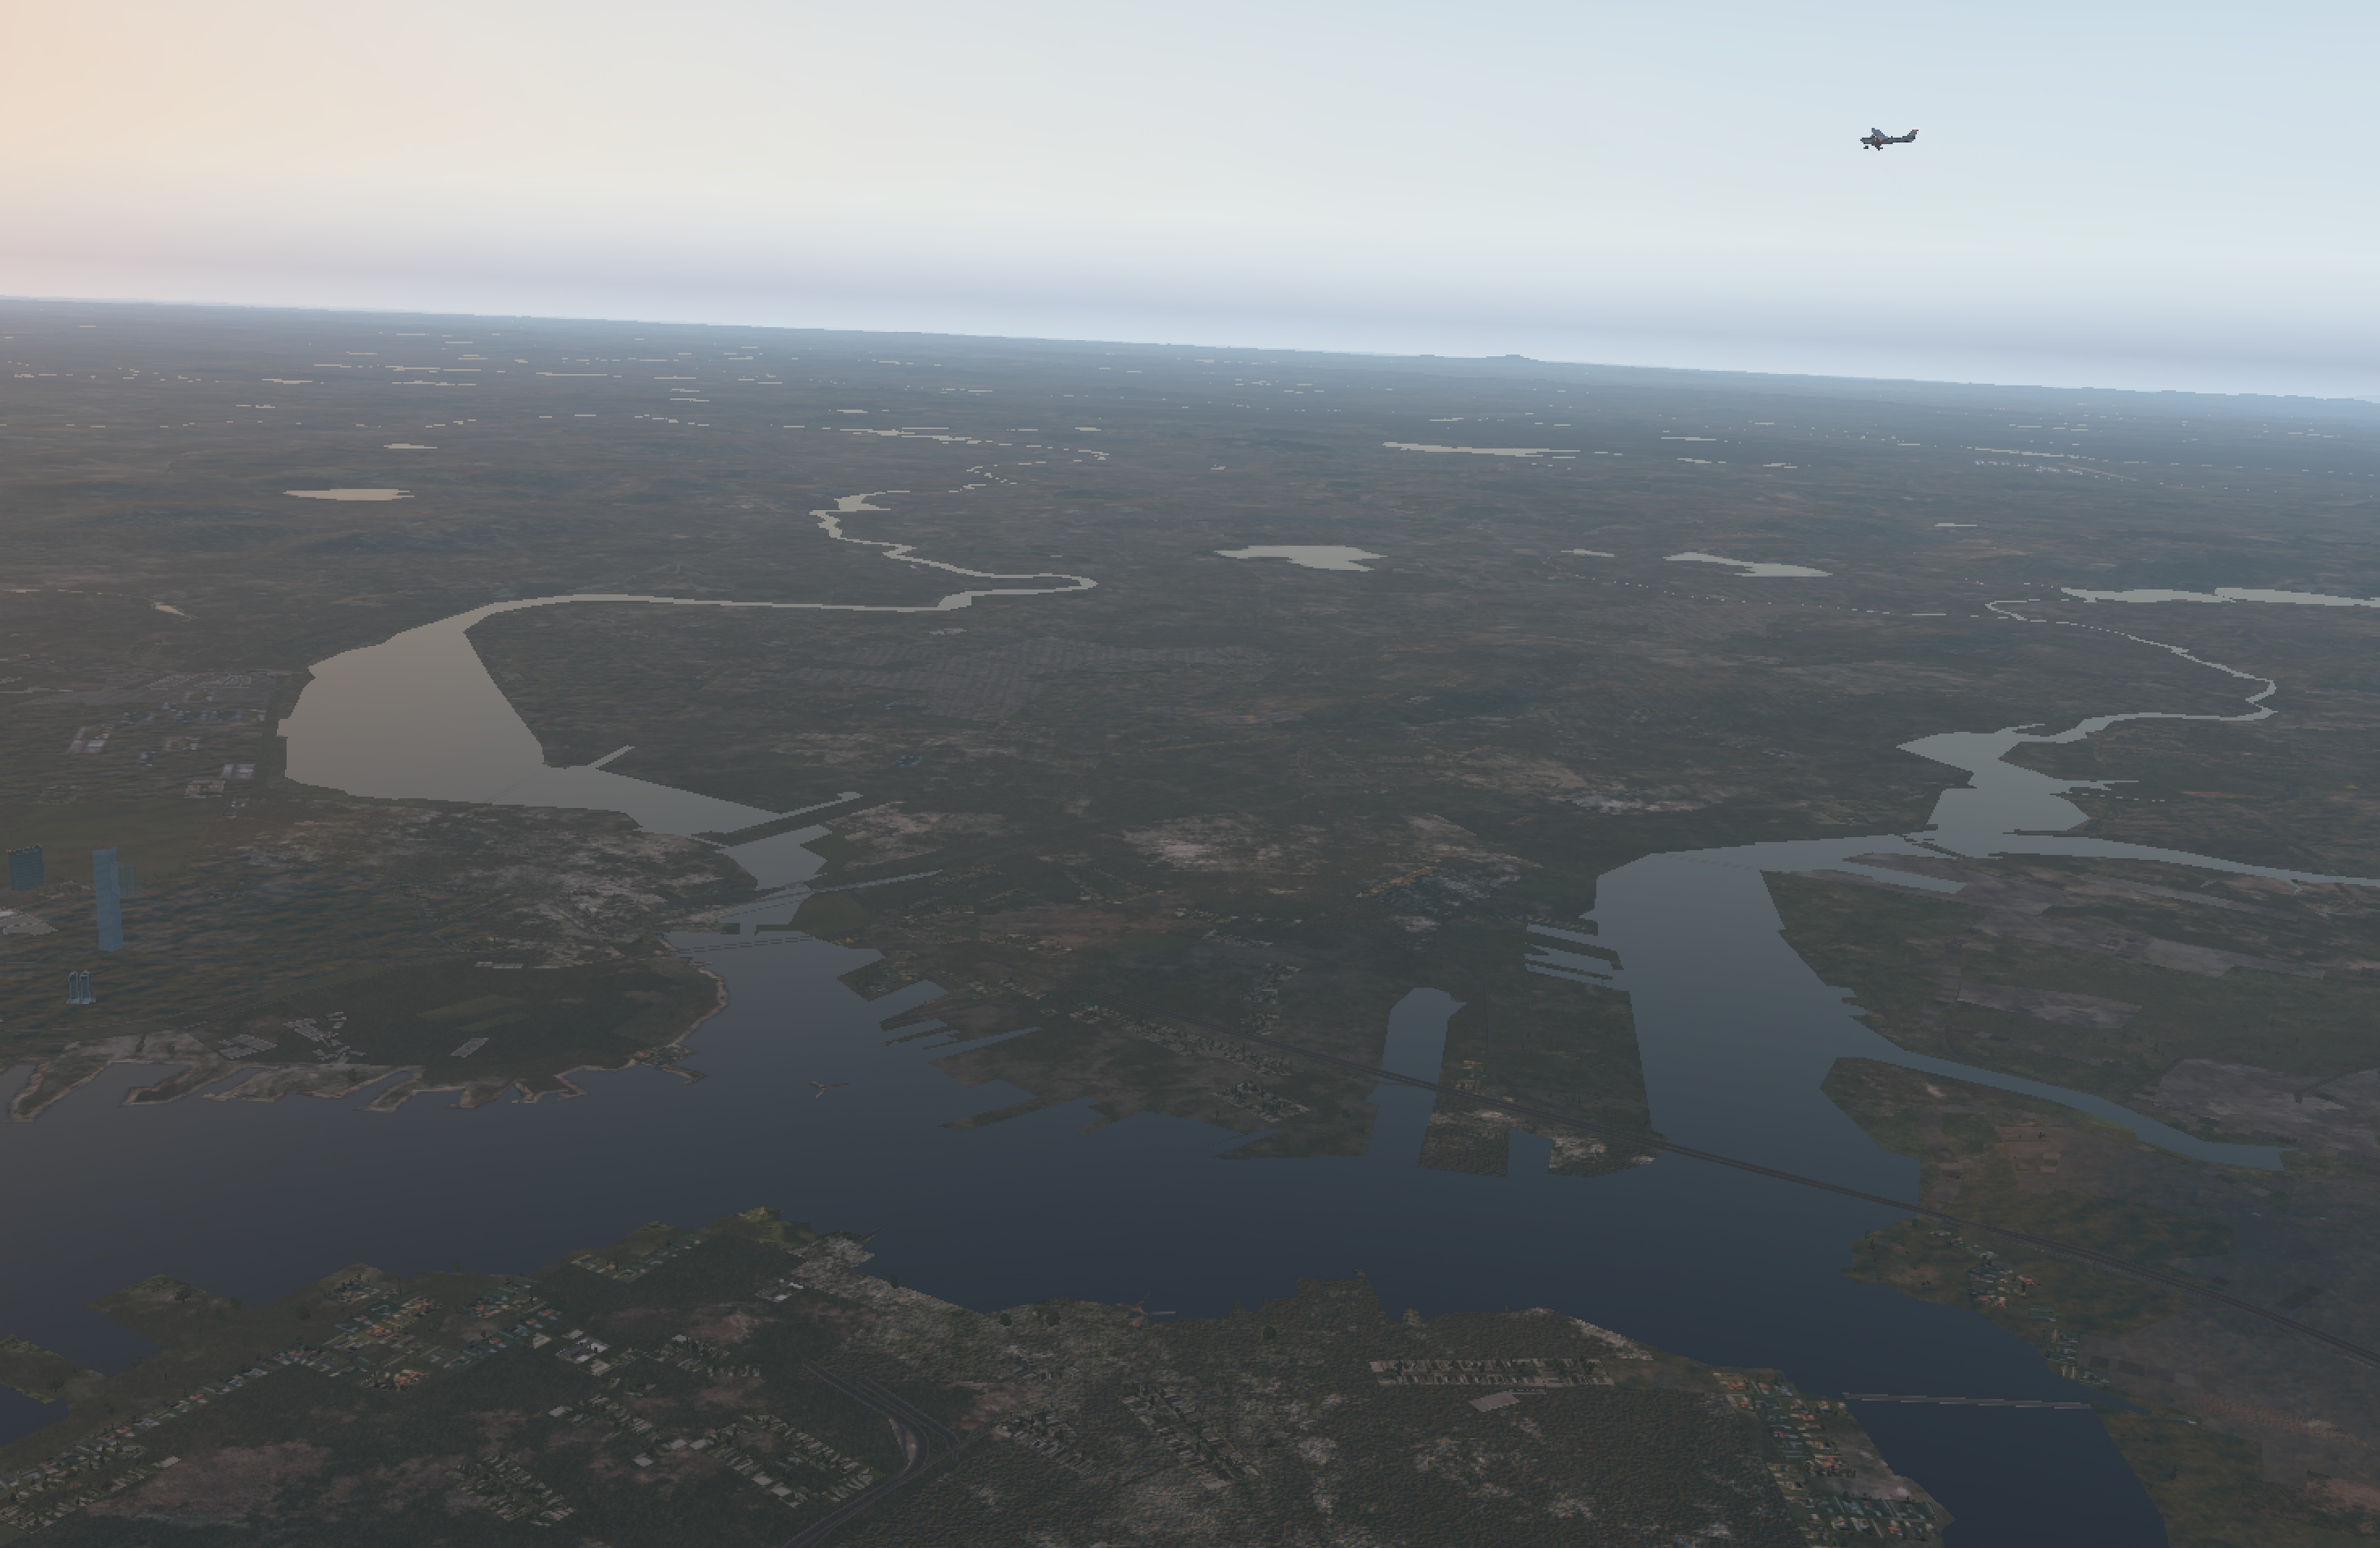aircraft: (1853, 130, 1901, 149)
